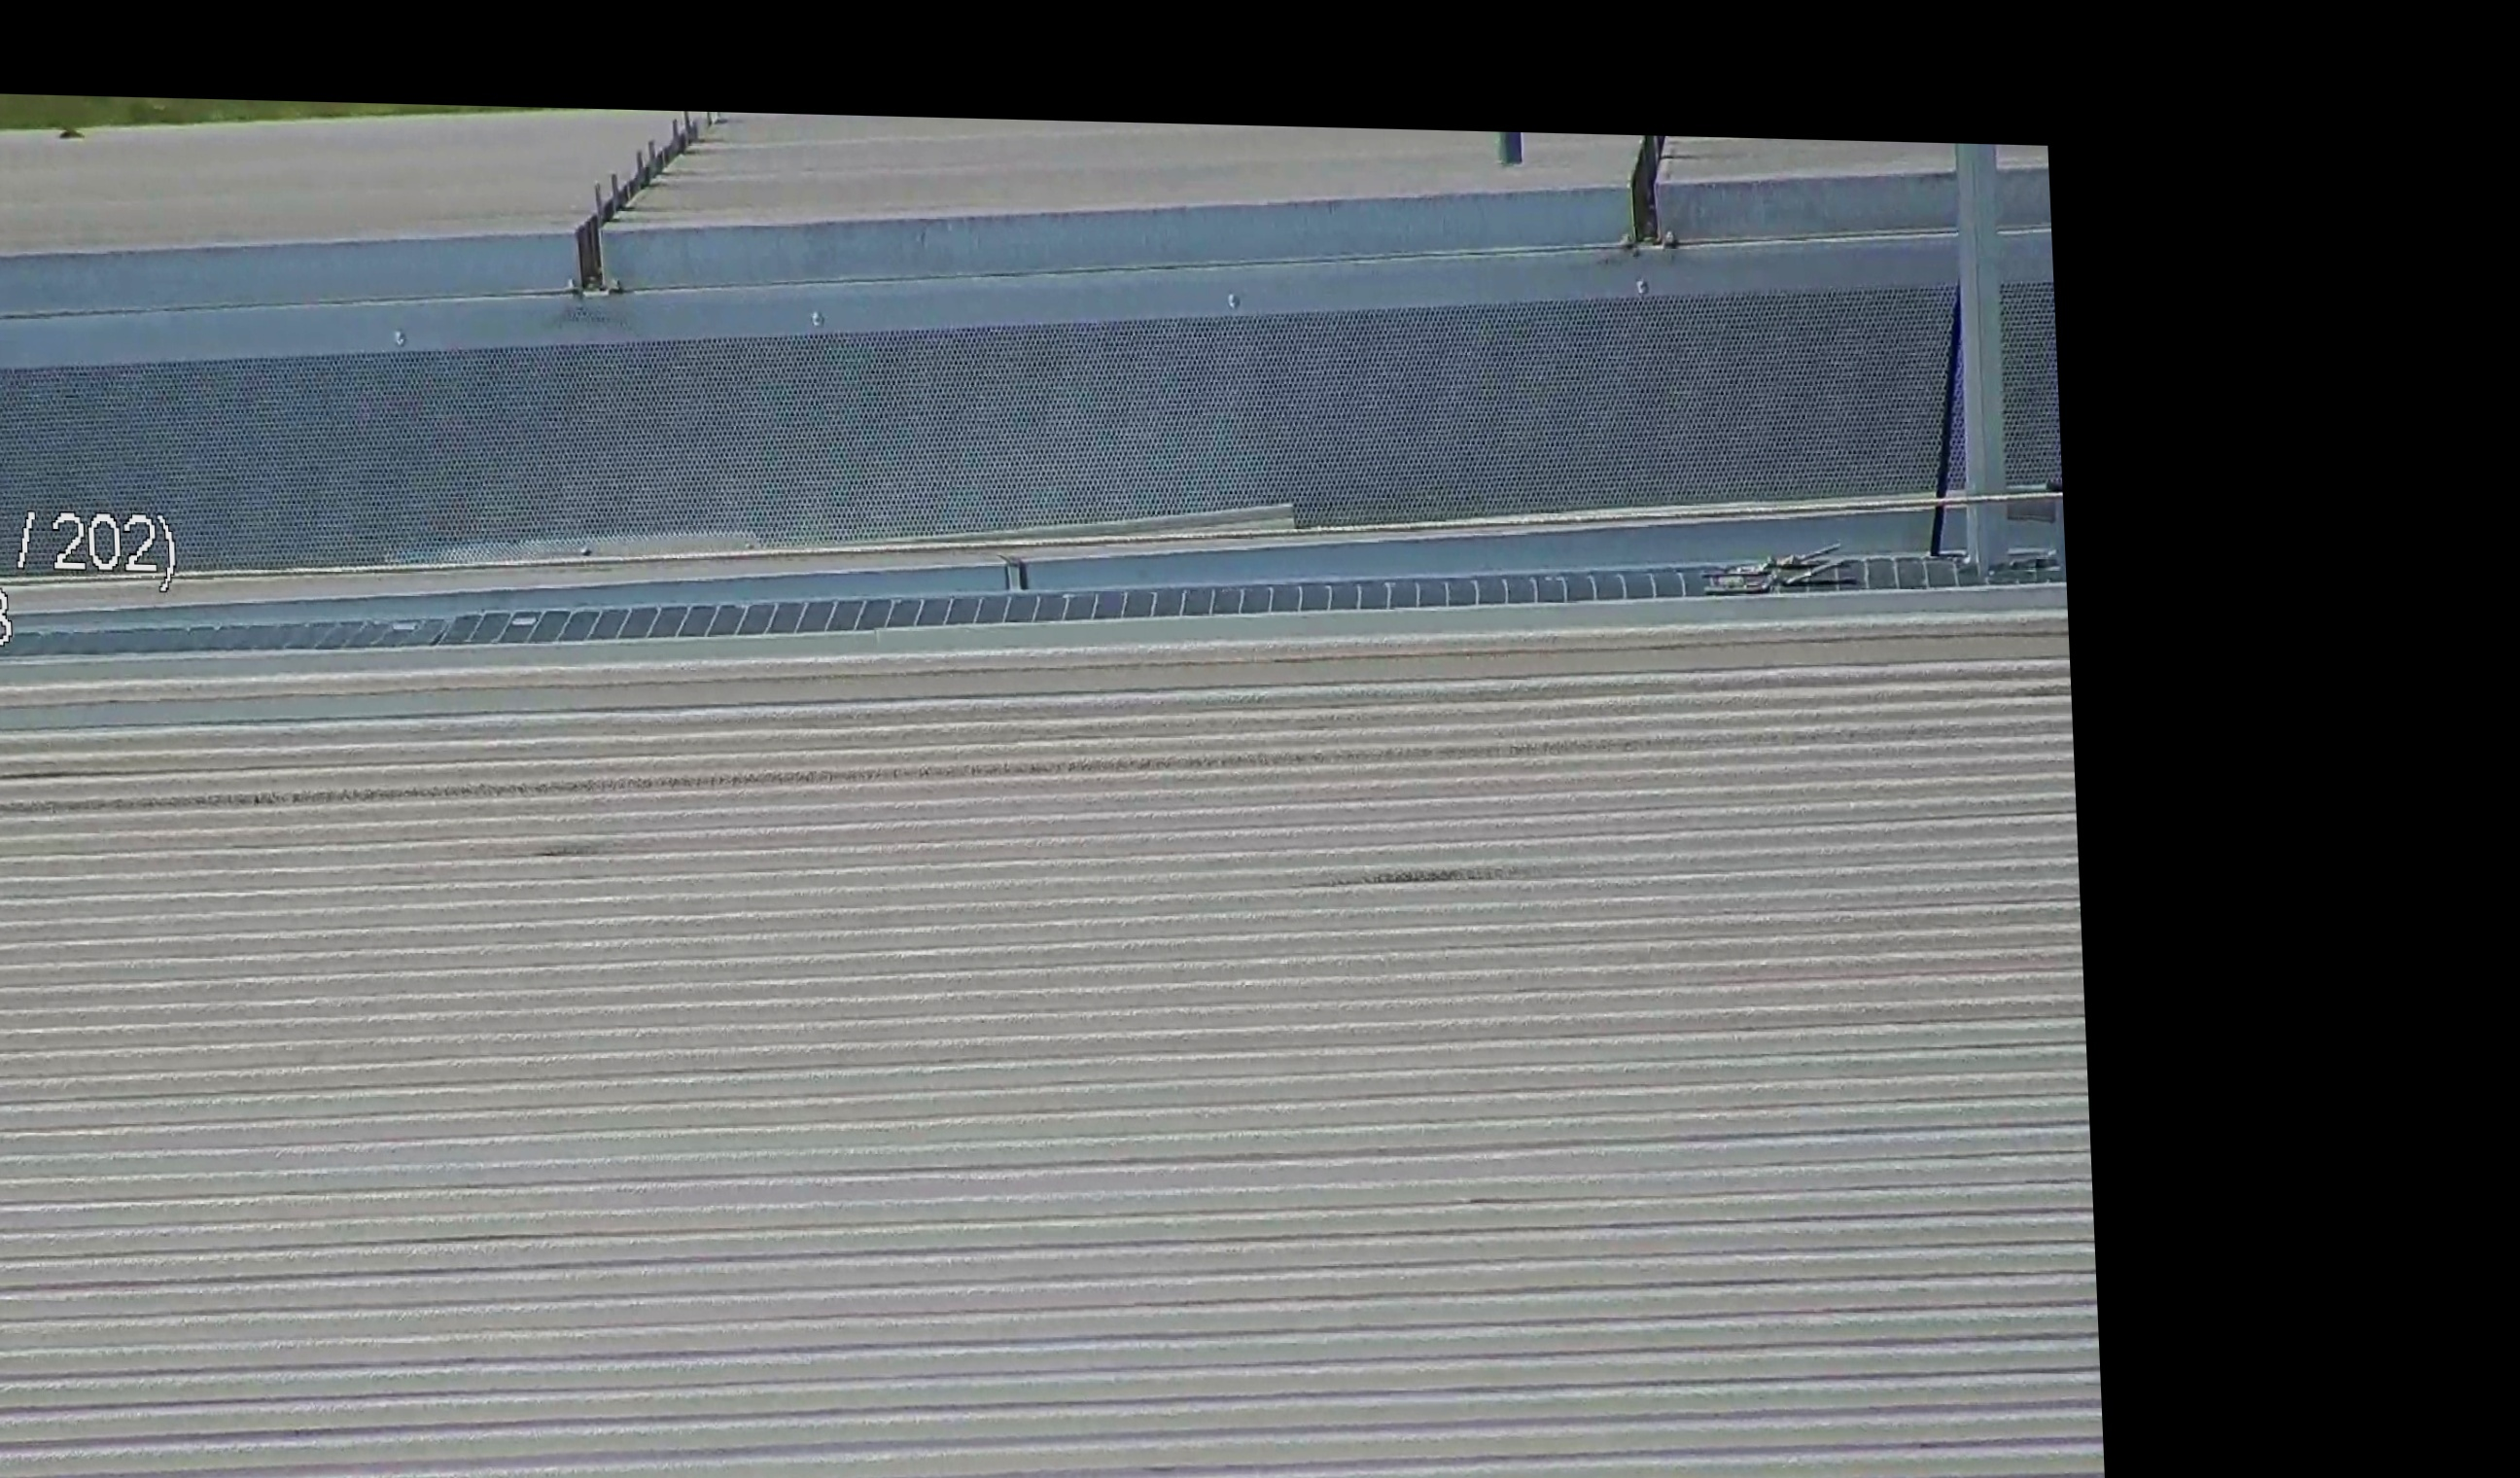Other: (1611, 56, 1709, 264)
